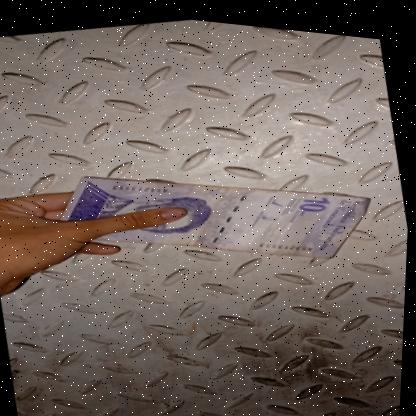ten-front-vef: (47, 117, 383, 305)
